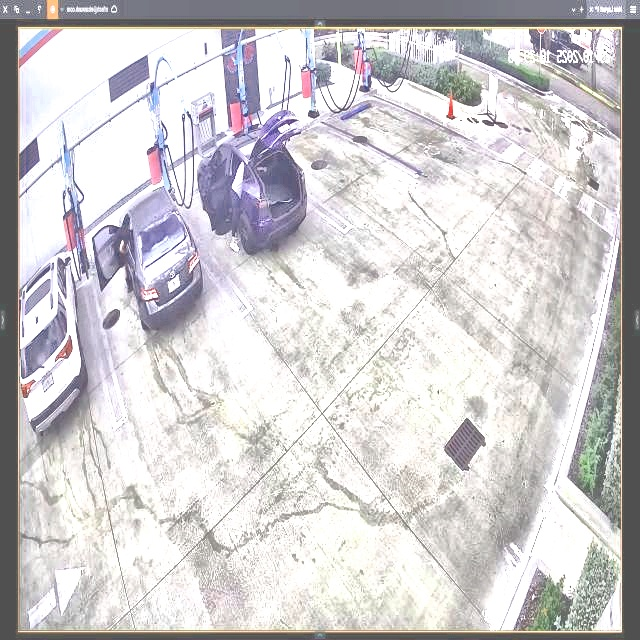Car: (198, 108, 307, 253), (98, 186, 202, 319)
